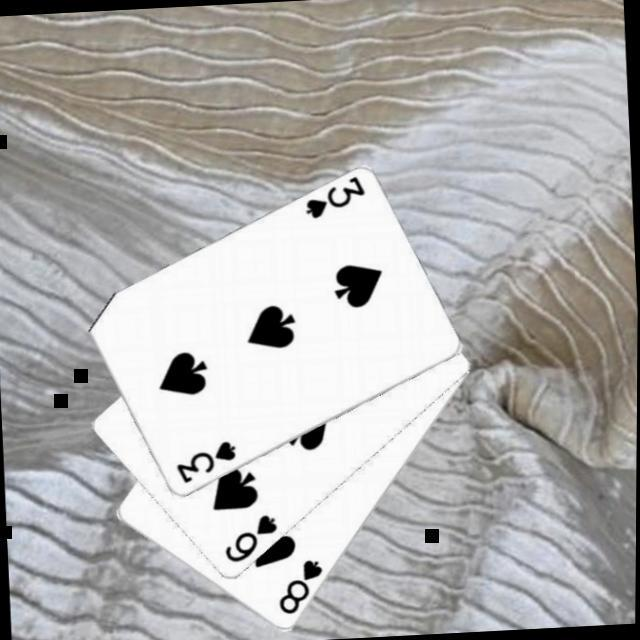3S: (174, 440, 242, 489), (303, 176, 371, 225)
6S: (222, 513, 285, 568)
8S: (276, 558, 331, 621)
